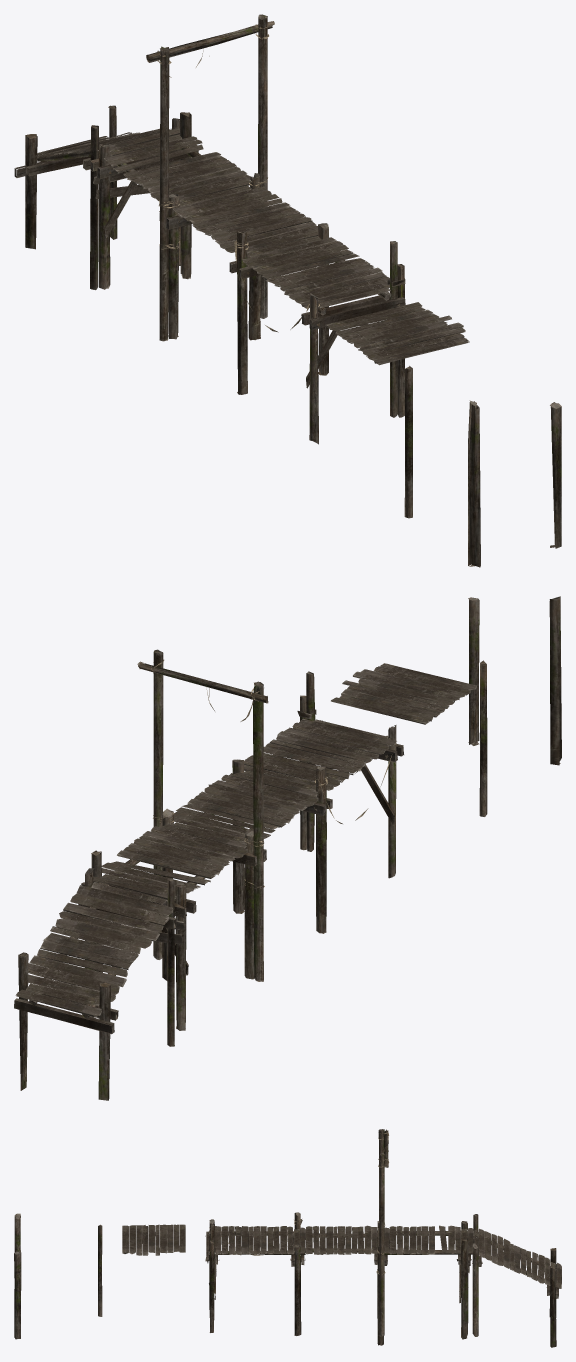
Rendered from modular_wooden_pier_1k.glb.lod.glb.
3 views of the same model, one above another, from view 1: azimuth 30°, elevation 25°; view 2: azimuth 150°, elevation 25°; view 3: azimuth 270°, elevation 25° (orthographic). The views are drawn at different scales.
Visible parts, largest first — view 1: modular_wooden_pier_section_01, modular_wooden_pier_section_03, modular_wooden_pier_section_02, modular_wooden_pier_section_05, modular_wooden_pier_planks, modular_wooden_pier_section_04, modular_wooden_pier_poles; view 2: modular_wooden_pier_section_04, modular_wooden_pier_section_01, modular_wooden_pier_section_03, modular_wooden_pier_section_02, modular_wooden_pier_section_05, modular_wooden_pier_planks, modular_wooden_pier_poles; view 3: modular_wooden_pier_section_01, modular_wooden_pier_section_04, modular_wooden_pier_section_03, modular_wooden_pier_section_02, modular_wooden_pier_planks, modular_wooden_pier_section_05, modular_wooden_pier_poles.
Part boxes in pixels (x1,y1,x2,y2): modular_wooden_pier_section_01: [229, 223, 405, 444]; modular_wooden_pier_section_03: [90, 112, 250, 289]; modular_wooden_pier_section_02: [159, 173, 317, 340]; modular_wooden_pier_section_05: [146, 14, 274, 341]; modular_wooden_pier_planks: [325, 302, 469, 365]; modular_wooden_pier_section_04: [14, 105, 180, 290]; modular_wooden_pier_poles: [404, 366, 561, 567]; modular_wooden_pier_section_04: [14, 868, 176, 1100]; modular_wooden_pier_section_01: [226, 671, 403, 933]; modular_wooden_pier_section_03: [81, 826, 247, 1030]; modular_wooden_pier_section_02: [161, 774, 318, 980]; modular_wooden_pier_section_05: [137, 649, 268, 981]; modular_wooden_pier_planks: [331, 663, 477, 724]; modular_wooden_pier_poles: [468, 596, 561, 816]; modular_wooden_pier_section_01: [205, 1212, 305, 1335]; modular_wooden_pier_section_04: [472, 1214, 561, 1347]; modular_wooden_pier_section_03: [377, 1221, 473, 1339]; modular_wooden_pier_section_02: [293, 1221, 389, 1345]; modular_wooden_pier_planks: [122, 1224, 185, 1255]; modular_wooden_pier_section_05: [376, 1129, 388, 1336]; modular_wooden_pier_poles: [14, 1213, 102, 1339].
Size of the model in its own units: 3.08 by 7.5 by 19.03.
3 materials, 3 textured.
